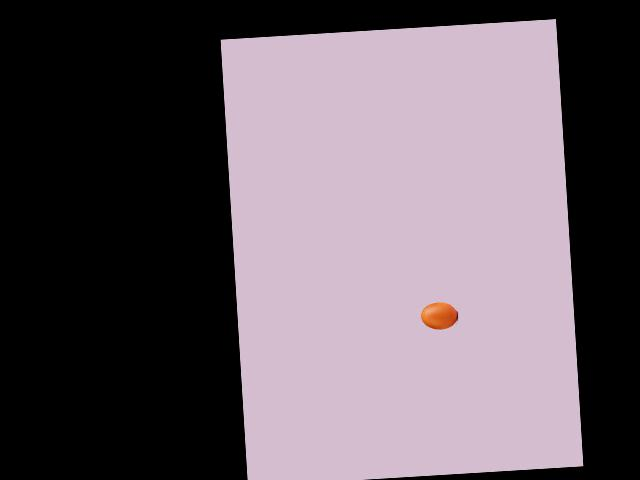egg: (420, 302, 458, 330)
